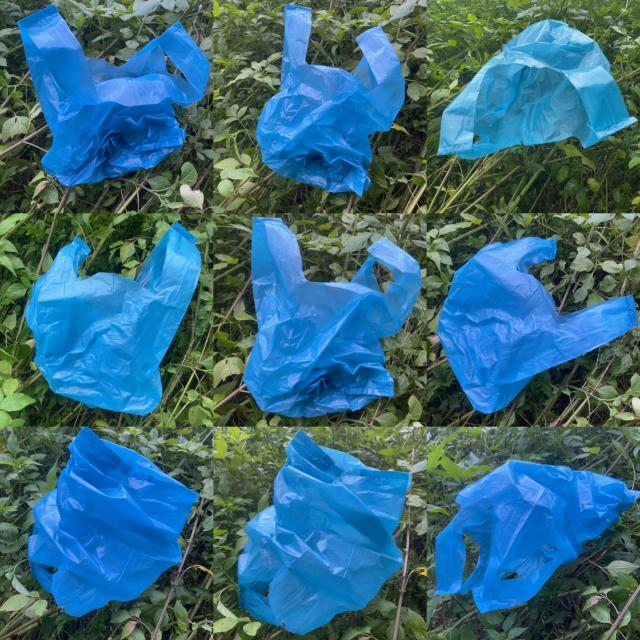Single-layer Plastic: (244, 218, 421, 418), (438, 238, 639, 414), (238, 430, 410, 633), (18, 5, 209, 186), (25, 222, 201, 415), (29, 428, 198, 616), (436, 460, 640, 612), (256, 5, 405, 195), (438, 20, 636, 159)
